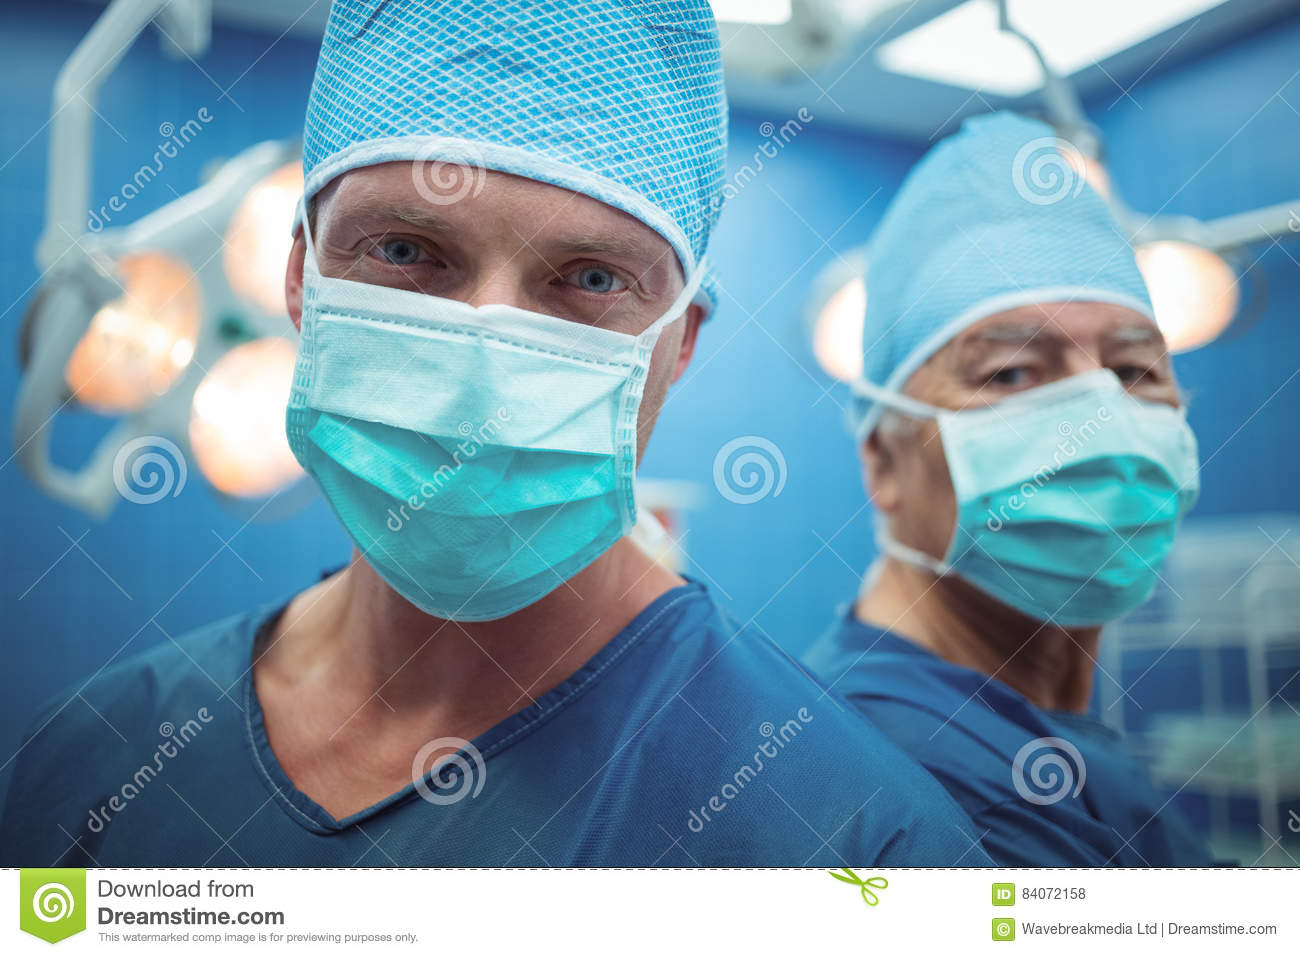mask: (307, 279, 663, 629), (926, 369, 1223, 636)
